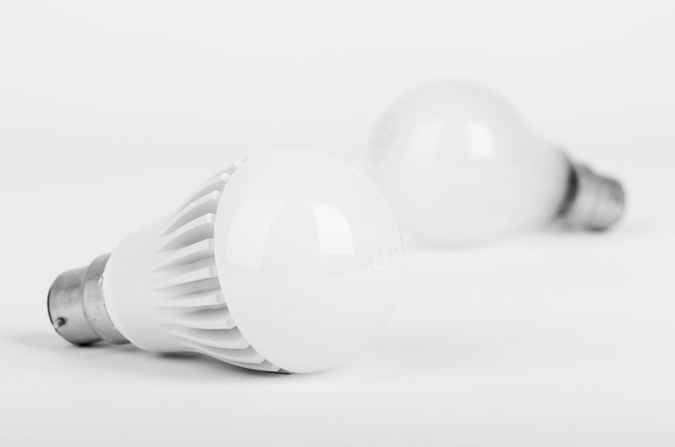Light_bulb: (42, 142, 411, 381), (378, 72, 646, 246)
